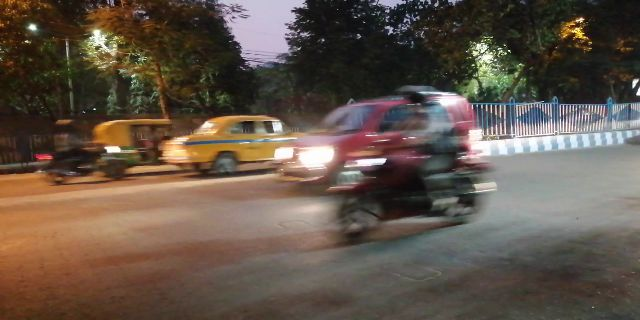Car: (164, 109, 268, 171)
Motorbike: (341, 86, 488, 230), (36, 121, 128, 180)
